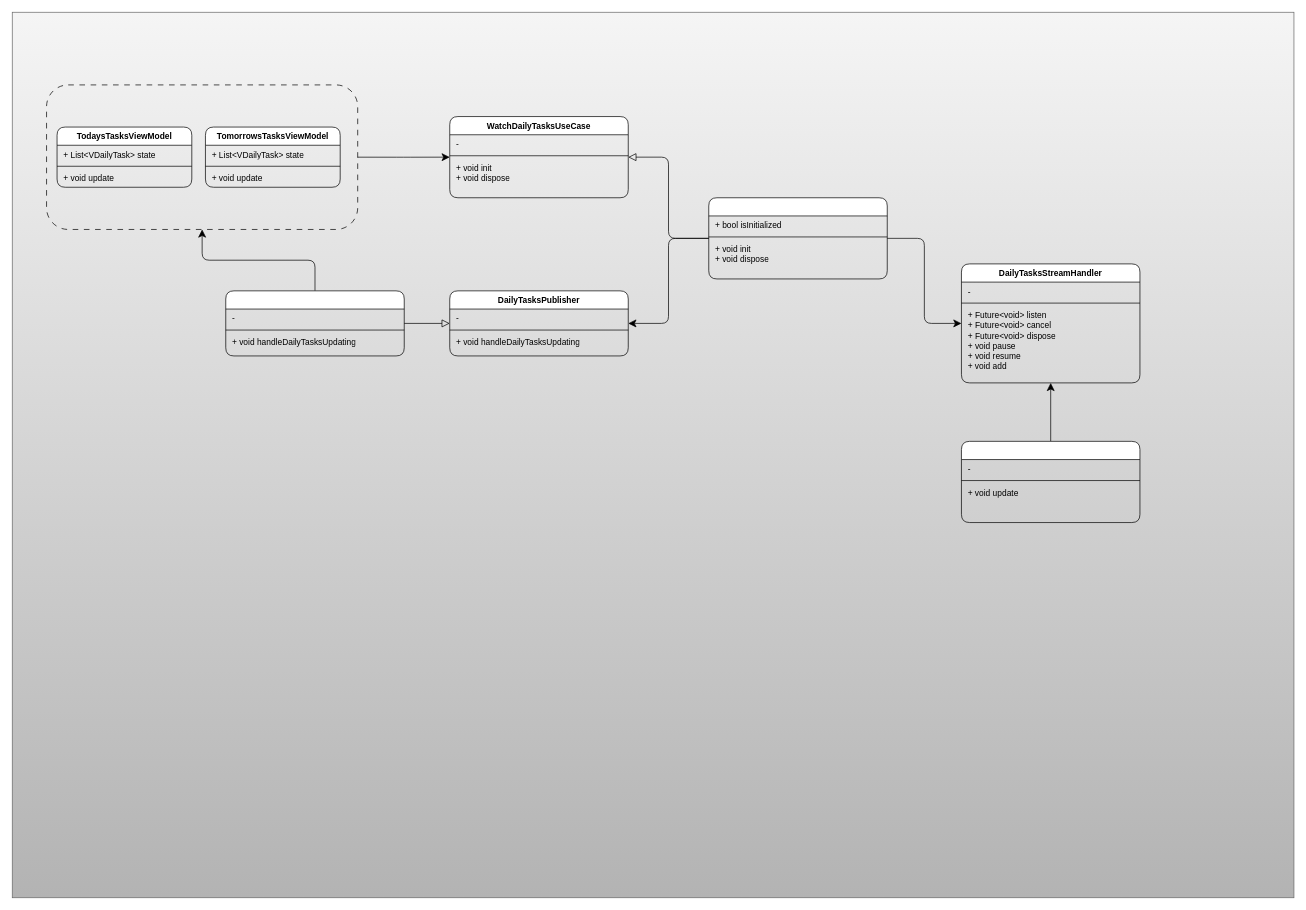
The diagram is 1306 pixels wide and 910 high, and some of its shapes have lost their labels. The shapes that lost their labels are listed below. From the top down, each one's box as (x1, y1, x2, y2) in pixels, then its label:
(708, 197, 887, 279): WatchDailyTasksInteractor
(225, 290, 404, 356): DailyTasksPresenter
(961, 441, 1140, 523): DailyTasksCacheHandler
